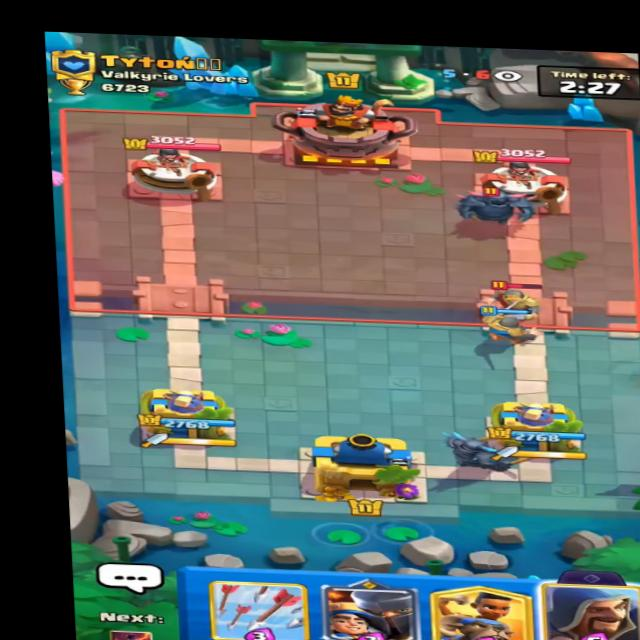Knight: (479, 279, 563, 322)
Pekka: (453, 179, 545, 227)
